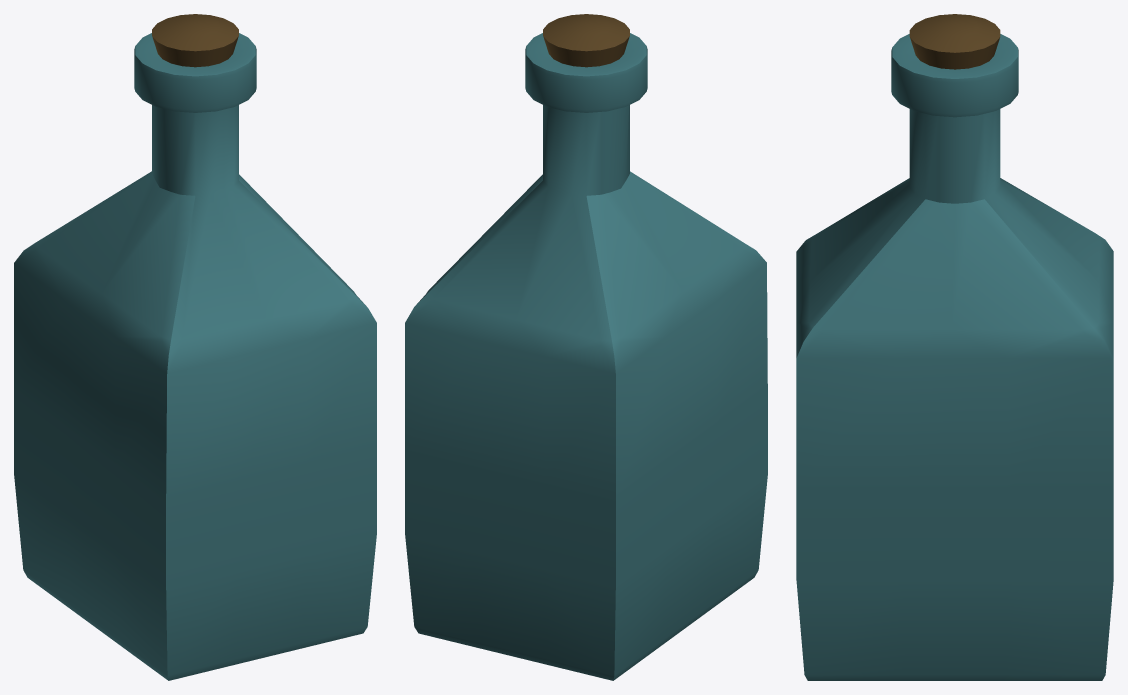
Rendered from fioleCarre_low.fbx.
3 renders of one model, left to right at view 1: azimuth 30°, elevation 25°; view 2: azimuth 150°, elevation 25°; view 3: azimuth 270°, elevation 25°, orthographic. The views are drawn at different scales.
Parts seen in each view (by area): view 1: Fiole carree, bouchon; view 2: Fiole carree, bouchon; view 3: Fiole carree, bouchon.
Boxes of the visible parts, left/top/right/bottom form: Fiole carree: left=14, top=33, right=376, bottom=680; bouchon: left=152, top=14, right=238, bottom=67; Fiole carree: left=405, top=33, right=767, bottom=680; bouchon: left=543, top=14, right=629, bottom=67; Fiole carree: left=796, top=34, right=1113, bottom=680; bouchon: left=909, top=14, right=1000, bottom=69.
Size of the model in its own units: 7.85 by 20.79 by 9.81.
